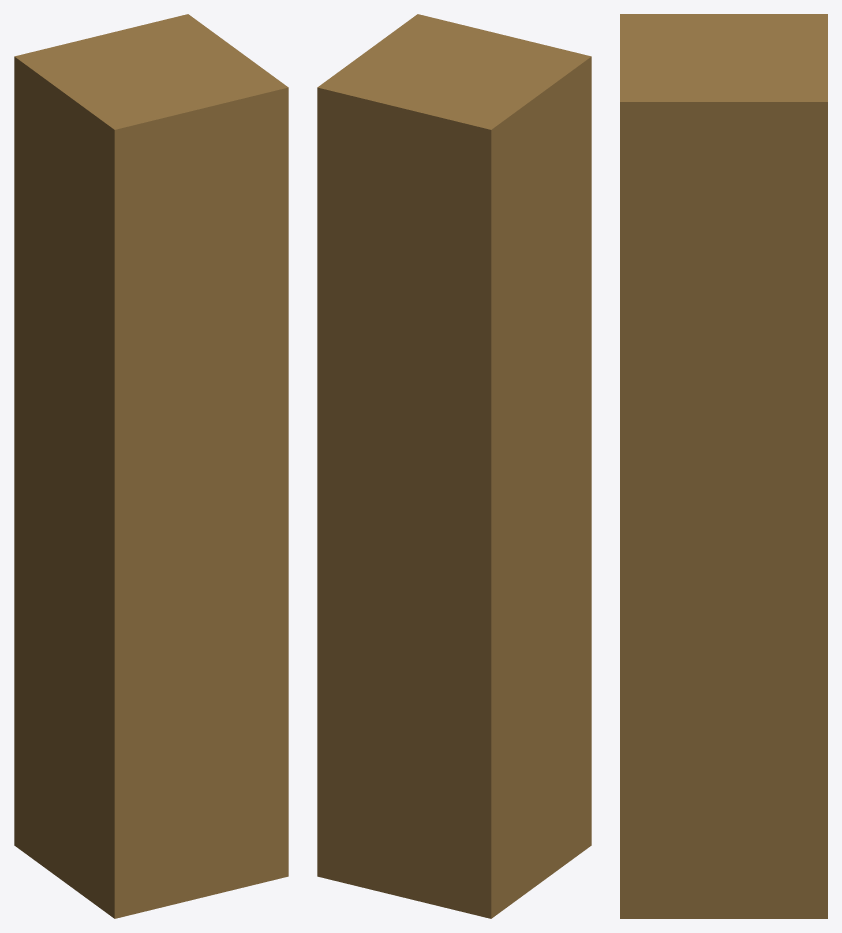
Rendered from RailPost.fbx.
The picture shows the model from 3 angles, left to right: view 1: azimuth 30°, elevation 25°; view 2: azimuth 150°, elevation 25°; view 3: azimuth 270°, elevation 25°; orthographic projection. The views are drawn at different scales.
Parts seen in each view (by area): view 1: RailPost; view 2: RailPost; view 3: RailPost.
Part boxes in pixels (x1,y1,x2,y2): RailPost: (14, 14, 288, 918); RailPost: (317, 14, 591, 918); RailPost: (620, 14, 827, 918).
Size of the model in its own units: 0.1476 by 0.6398 by 0.1476.
